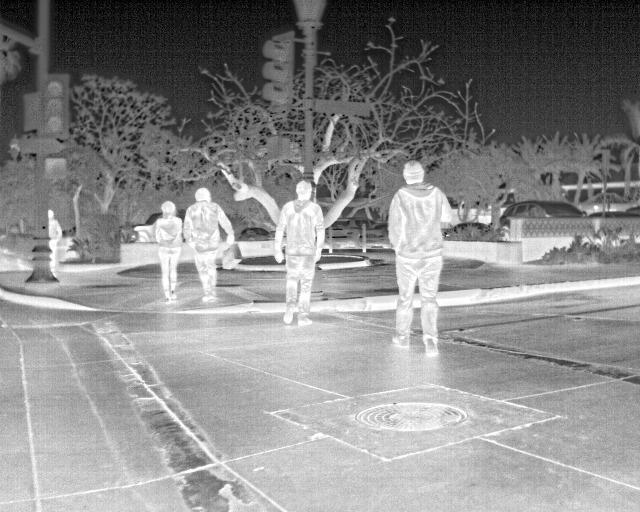bicycle: (494, 200, 585, 223), (446, 221, 488, 243), (236, 225, 269, 243)
empty: (387, 160, 457, 362), (273, 181, 323, 328), (181, 185, 232, 302), (154, 198, 186, 305), (46, 209, 64, 274)
